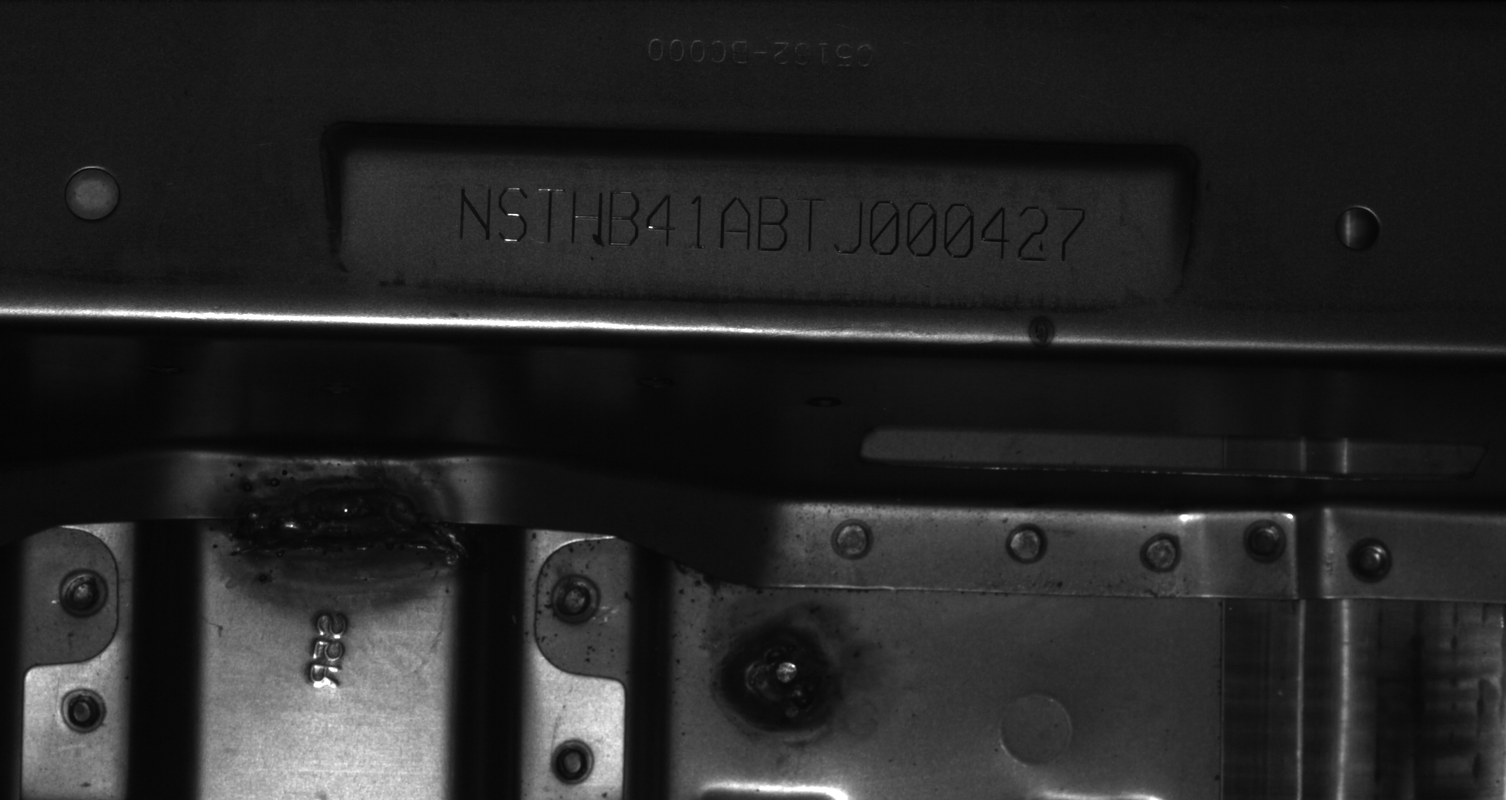bl7m_vin_plate: (339, 152, 1181, 300)
